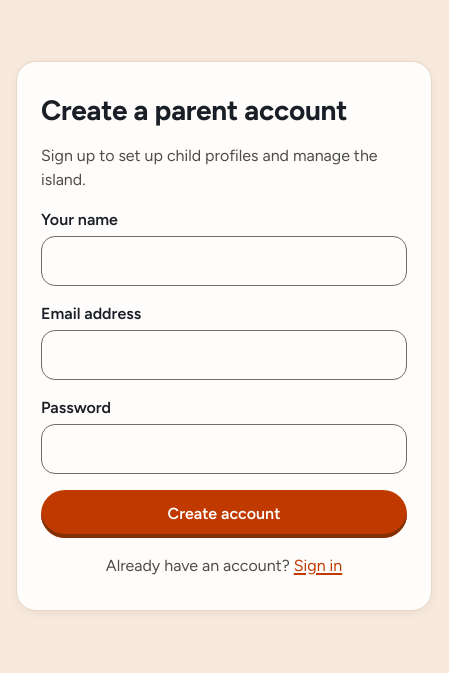
SignUpForm › submits sign-up details and reports a friendly message on failure
Type "Ada Lovelace" into the field labelled "Your name".
click(224, 261); type("Ada Lovelace")  # box left=41, top=236, right=407, bottom=286
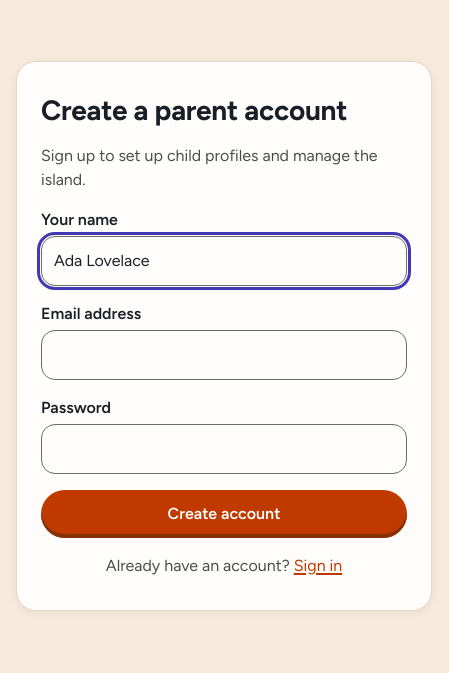
Type "ada@example.com" into the field labelled "Email address".
click(224, 355); type("ada@example.com")  # box left=41, top=330, right=407, bottom=380
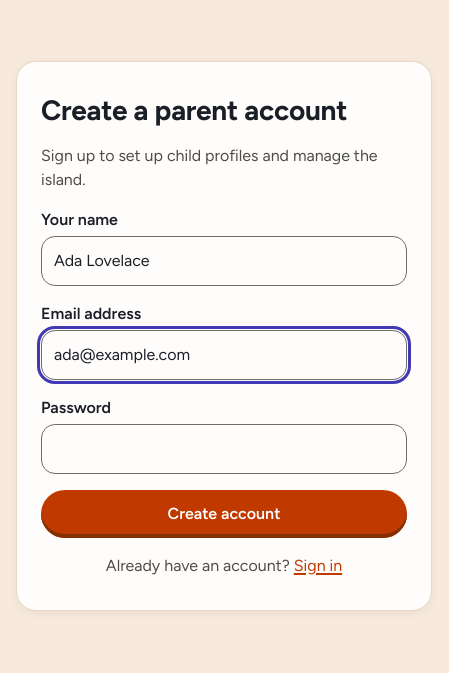
Type "supersecret" into the password field labelled "Password".
click(224, 449); type("supersecret")  # box left=41, top=424, right=407, bottom=474
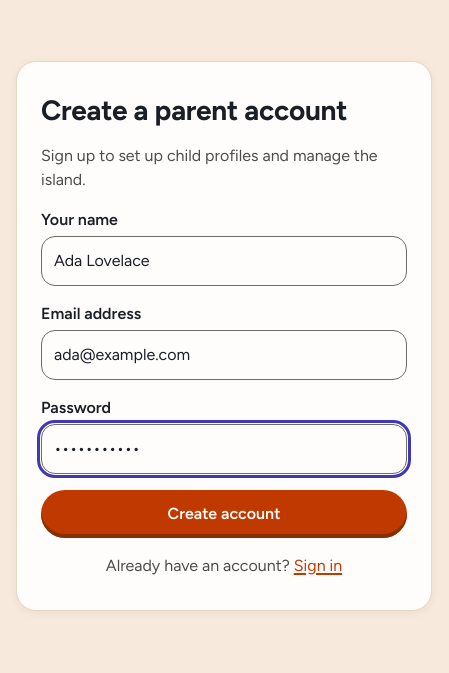
Click the button "Create account".
click(224, 514)  # box left=41, top=490, right=407, bottom=538
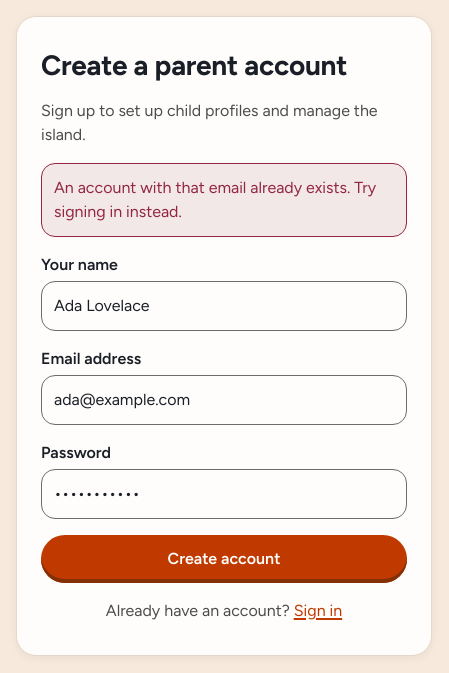
Check: the message shows "already exists", box left=54, top=178, right=376, bottom=221
